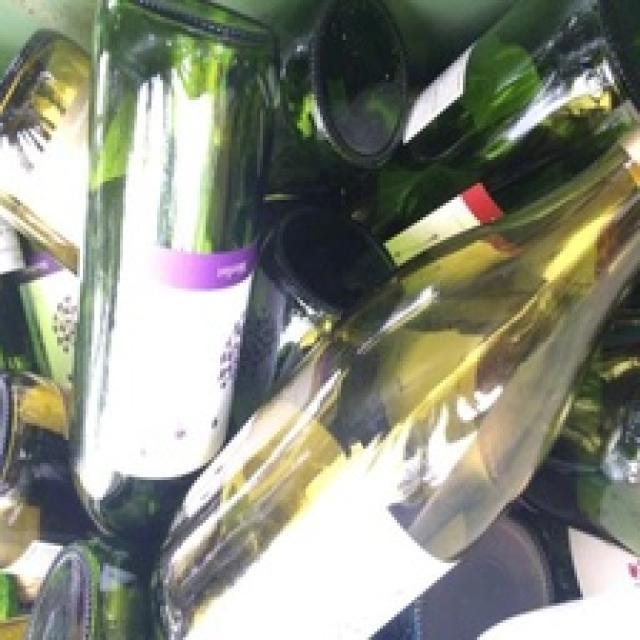Glass: (151, 125, 640, 640), (78, 0, 288, 566)
